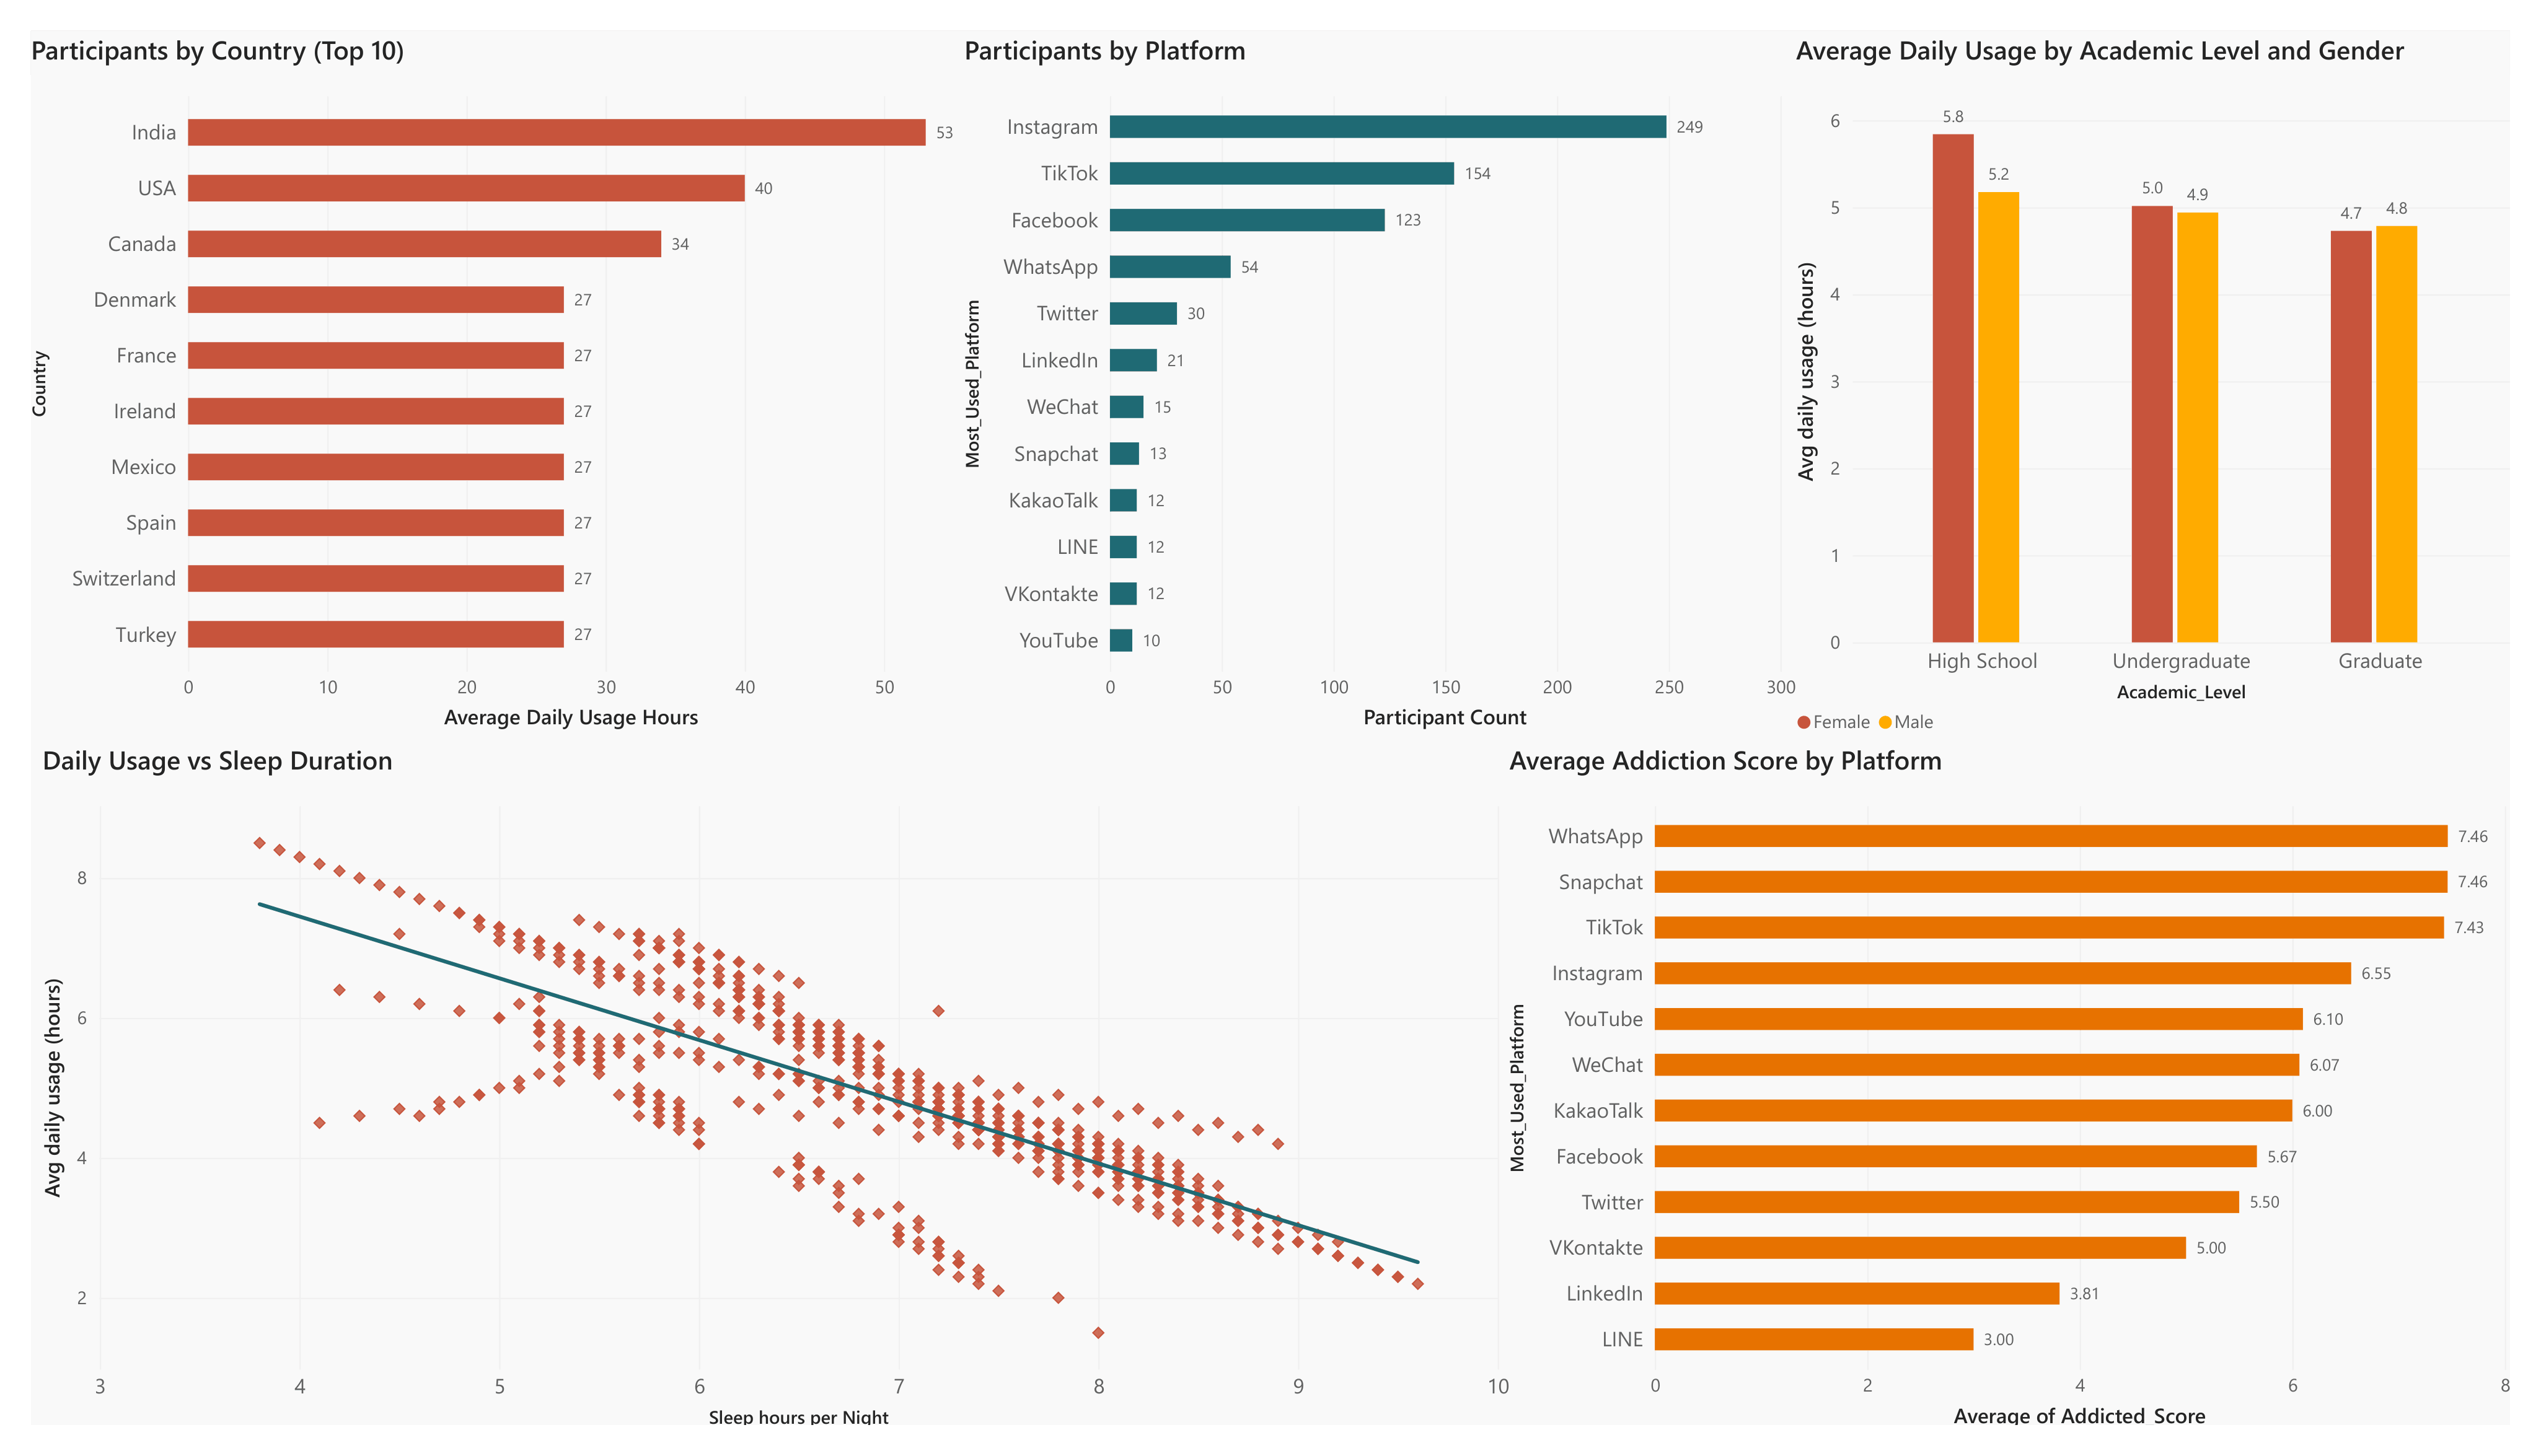

The dashboard page shown, as its layout file describes it:
{"tool":"powerbi","page":{"name":"Relationships","canvas":[1920,1080],"ordinal":1},"visuals":[{"type":"scatterChart","title":"Daily Usage vs Sleep Duration","fields":{"Category":["Students Social Media Addiction.Student_ID"],"X":["Avg(Students Social Media Addiction.Sleep_Hours_Per_Night)"],"Y":["Sum(Students Social Media Addiction.Avg_Daily_Usage_Hours)"]},"box":[9.1,549.9,1136.2,531.6],"z":0},{"type":"clusteredColumnChart","title":"Average Daily Usage by Academic Level and Gender","fields":{"Category":["Students Social Media Addiction.Academic_Level"],"Series":["Students Social Media Addiction.Gender"],"Y":["Avg(Students Social Media Addiction.Avg_Daily_Usage_Hours)"]},"box":[1367.1,0,552.9,549.9],"z":1000},{"type":"clusteredBarChart","title":"Average Addiction Score by Platform","fields":{"Category":["Students Social Media Addiction.Most_Used_Platform"],"Y":["Avg(Students Social Media Addiction.Addicted_Score)"]},"box":[1145.3,549.9,774.7,531.6],"z":2000},{"type":"barChart","title":"Participants by Country (Top 10)","fields":{"Category":["Students Social Media Addiction.Country"],"Y":["Students Social Media Addiction.Participant Count"]},"box":[0,0,723,540.8],"z":4000},{"type":"clusteredBarChart","title":"Participants by Platform","fields":{"Category":["Students Social Media Addiction.Most_Used_Platform"],"Y":["Students Social Media Addiction.Participant Count"]},"box":[723,0,644.1,540.8],"z":5000}]}

Visuals, with their boxes on the page's 1920x1080 design canvas (x1, y1, x2, y2). These are canvas units, not pixel positions in the 2541x1456 screenshot, which may show the page scaled, cropped or inside an application window:
"Daily Usage vs Sleep Duration" scatterChart: bbox=[9, 550, 1145, 1082]
"Average Daily Usage by Academic Level and Gender" clusteredColumnChart: bbox=[1367, 0, 1920, 550]
"Average Addiction Score by Platform" clusteredBarChart: bbox=[1145, 550, 1920, 1082]
"Participants by Country (Top 10)" barChart: bbox=[0, 0, 723, 541]
"Participants by Platform" clusteredBarChart: bbox=[723, 0, 1367, 541]
